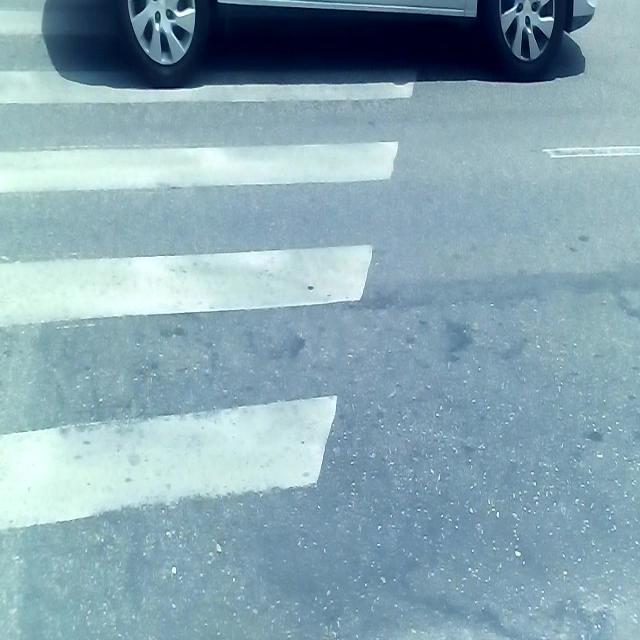crosswalk: (0, 0, 421, 640)
